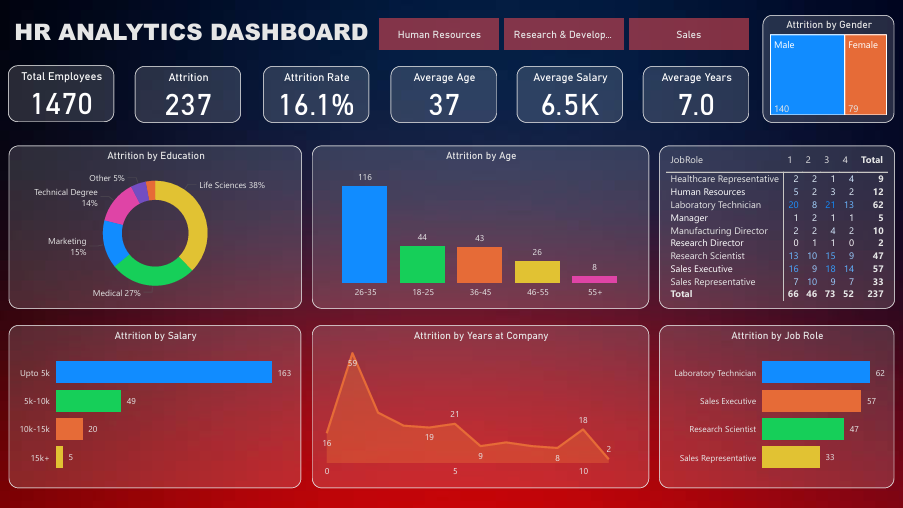

The page's visual inventory and layout, read from the dashboard file:
{"tool":"powerbi","page":{"name":"Page 1","canvas":[1280,720],"ordinal":0},"visuals":[{"type":"card","title":"Total Employees","fields":{"Values":["CountNonNull(HR_Analytics.EmpID)"]},"box":[13.7,92.3,150,80],"z":0},{"type":"card","title":"Attrition","fields":{"Values":["Sum(HR_Analytics.AttritionCount)"]},"box":[192.5,92.5,150,80],"z":1000},{"type":"card","title":"Average Age","fields":{"Values":["Avg(HR_Analytics.Age)"]},"box":[553.8,92.5,150,80],"z":2000},{"type":"card","title":"Attrition Rate","fields":{"Values":["HR_Analytics.AttritionRate"]},"box":[373.8,92.5,150,80],"z":3000},{"type":"card","title":"Average Years","fields":{"Values":["Avg(HR_Analytics.YearsAtCompany)"]},"box":[909.6,92.6,150,80],"z":4000},{"type":"card","title":"Average Salary","fields":{"Values":["Avg(HR_Analytics.MonthlyIncome)"]},"box":[732.1,92.6,150,80],"z":5000},{"type":"donutChart","title":"Attrition by Education","fields":{"Category":["HR_Analytics.EducationField"],"Y":["Sum(HR_Analytics.AttritionCount)"]},"box":[15,205,413.8,230],"z":6000},{"type":"columnChart","title":"Attrition by Age","fields":{"Category":["HR_Analytics.AgeGroup"],"Y":["Sum(HR_Analytics.AttritionCount)"]},"box":[442.5,205,476.2,230],"z":7000},{"type":"pivotTable","fields":{"Rows":["HR_Analytics.JobRole"],"Columns":["HR_Analytics.JobSatisfaction"],"Values":["Sum(HR_Analytics.AttritionCount)"]},"box":[932.5,204.6,333,230],"z":8000},{"type":"barChart","title":"Attrition by Salary","fields":{"Y":["Sum(HR_Analytics.AttritionCount)"],"Category":["HR_Analytics.SalarySlab"]},"box":[15,457.5,412.5,230],"z":9000},{"type":"barChart","title":"Attrition by Job Role","fields":{"Y":["Sum(HR_Analytics.AttritionCount)"],"Category":["HR_Analytics.JobRole"]},"box":[932.5,457.5,332.5,230],"z":10000},{"type":"areaChart","title":"Attrition by Years at Company","fields":{"Category":["HR_Analytics.YearsAtCompany"],"Y":["Sum(HR_Analytics.AttritionCount)"]},"box":[442.5,457.5,476.2,230],"z":11000},{"type":"treemap","title":"Attrition by Gender","fields":{"Group":["HR_Analytics.Gender"],"Values":["Sum(HR_Analytics.AttritionCount)"]},"box":[1078.8,21.2,186.2,151.2],"z":12000},{"type":"advancedSlicerVisual","fields":{"Values":["HR_Analytics.Department"]},"box":[534,21,531,55],"z":13000},{"type":"textbox","box":[18.3,15.9,541.5,59.8],"z":14000}]}

Visuals, with their boxes in screenshot pixels (x1, y1, x2, y2), scaled from the page's 1280x720 canvas onto the 903x508 screenshot:
"Total Employees" card: l=10, t=65, r=115, b=122
"Attrition" card: l=136, t=65, r=242, b=122
"Average Age" card: l=391, t=65, r=497, b=122
"Attrition Rate" card: l=264, t=65, r=370, b=122
"Average Years" card: l=642, t=65, r=748, b=122
"Average Salary" card: l=516, t=65, r=622, b=122
"Attrition by Education" donutChart: l=11, t=145, r=303, b=307
"Attrition by Age" columnChart: l=312, t=145, r=648, b=307
pivotTable - HR_Analytics.JobRole x HR_Analytics.JobSatisfaction: l=658, t=144, r=893, b=307
"Attrition by Salary" barChart: l=11, t=323, r=302, b=485
"Attrition by Job Role" barChart: l=658, t=323, r=892, b=485
"Attrition by Years at Company" areaChart: l=312, t=323, r=648, b=485
"Attrition by Gender" treemap: l=761, t=15, r=892, b=122
advancedSlicerVisual - HR_Analytics.Department: l=377, t=15, r=751, b=54
textbox: l=13, t=11, r=395, b=53
